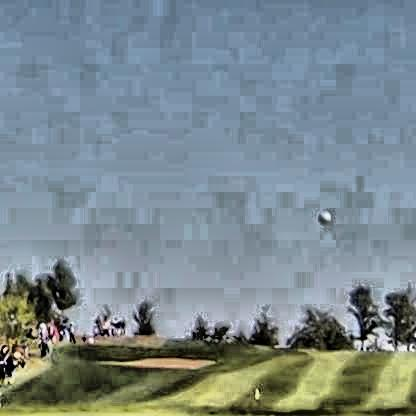golfball: (315, 206, 329, 222)
